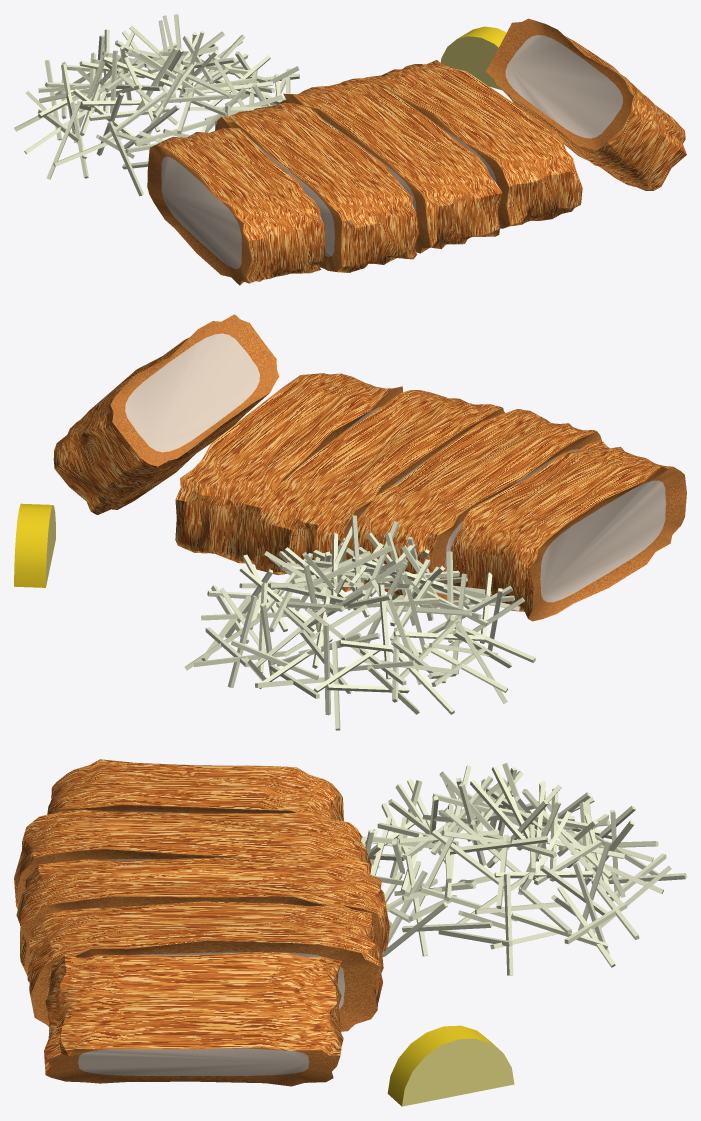
The model's file is Steak.fbx.
The picture shows the model from 3 angles, top to bottom: view 1: azimuth 30°, elevation 25°; view 2: azimuth 150°, elevation 25°; view 3: azimuth 270°, elevation 25°; orthographic projection. The views are drawn at different scales.
Parts seen in each view (by area): view 1: Steak; view 2: Steak; view 3: Steak.
Part boxes in pixels (<box>): Steak: <box>14,14,686,285</box>; Steak: <box>14,314,686,730</box>; Steak: <box>14,759,686,1106</box>.
Bounding box in the file's own units: 0.2385 × 0.0577 × 0.2383.
Materials: 5 (1 with a texture image).
